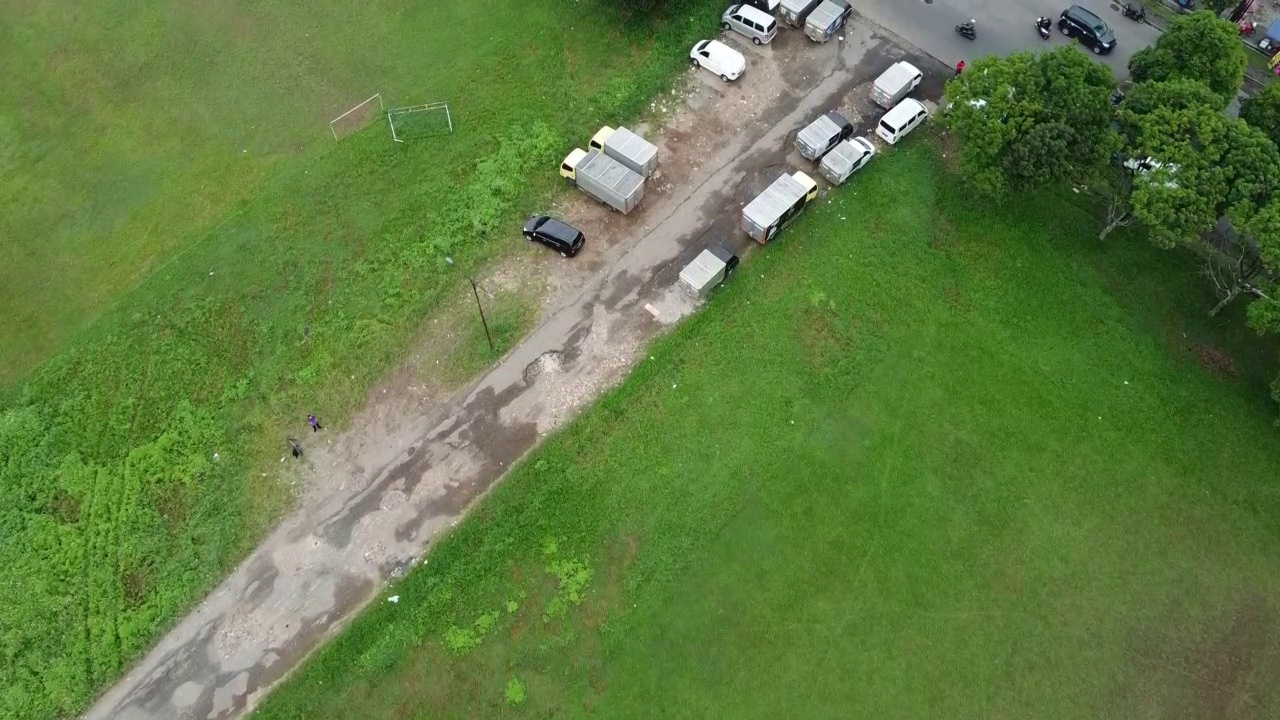mobil: (519, 210, 591, 262), (1056, 4, 1121, 61), (716, 1, 784, 51), (877, 95, 934, 145), (692, 35, 748, 83)
